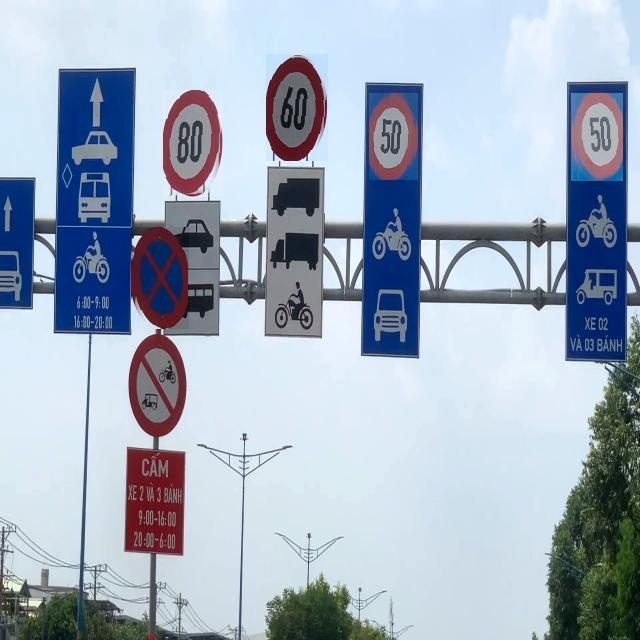bien_cam: (266, 54, 328, 161), (163, 90, 223, 197), (132, 227, 190, 329), (571, 93, 623, 181), (369, 93, 418, 180)
